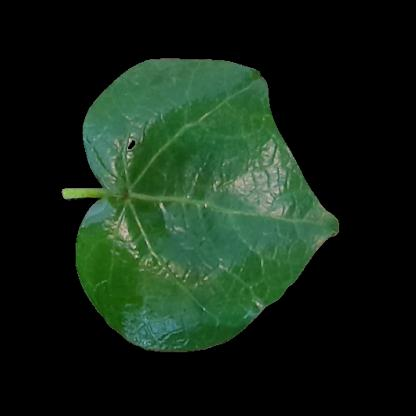healthy: (108, 160, 288, 279), (116, 78, 262, 160), (129, 267, 227, 343)
